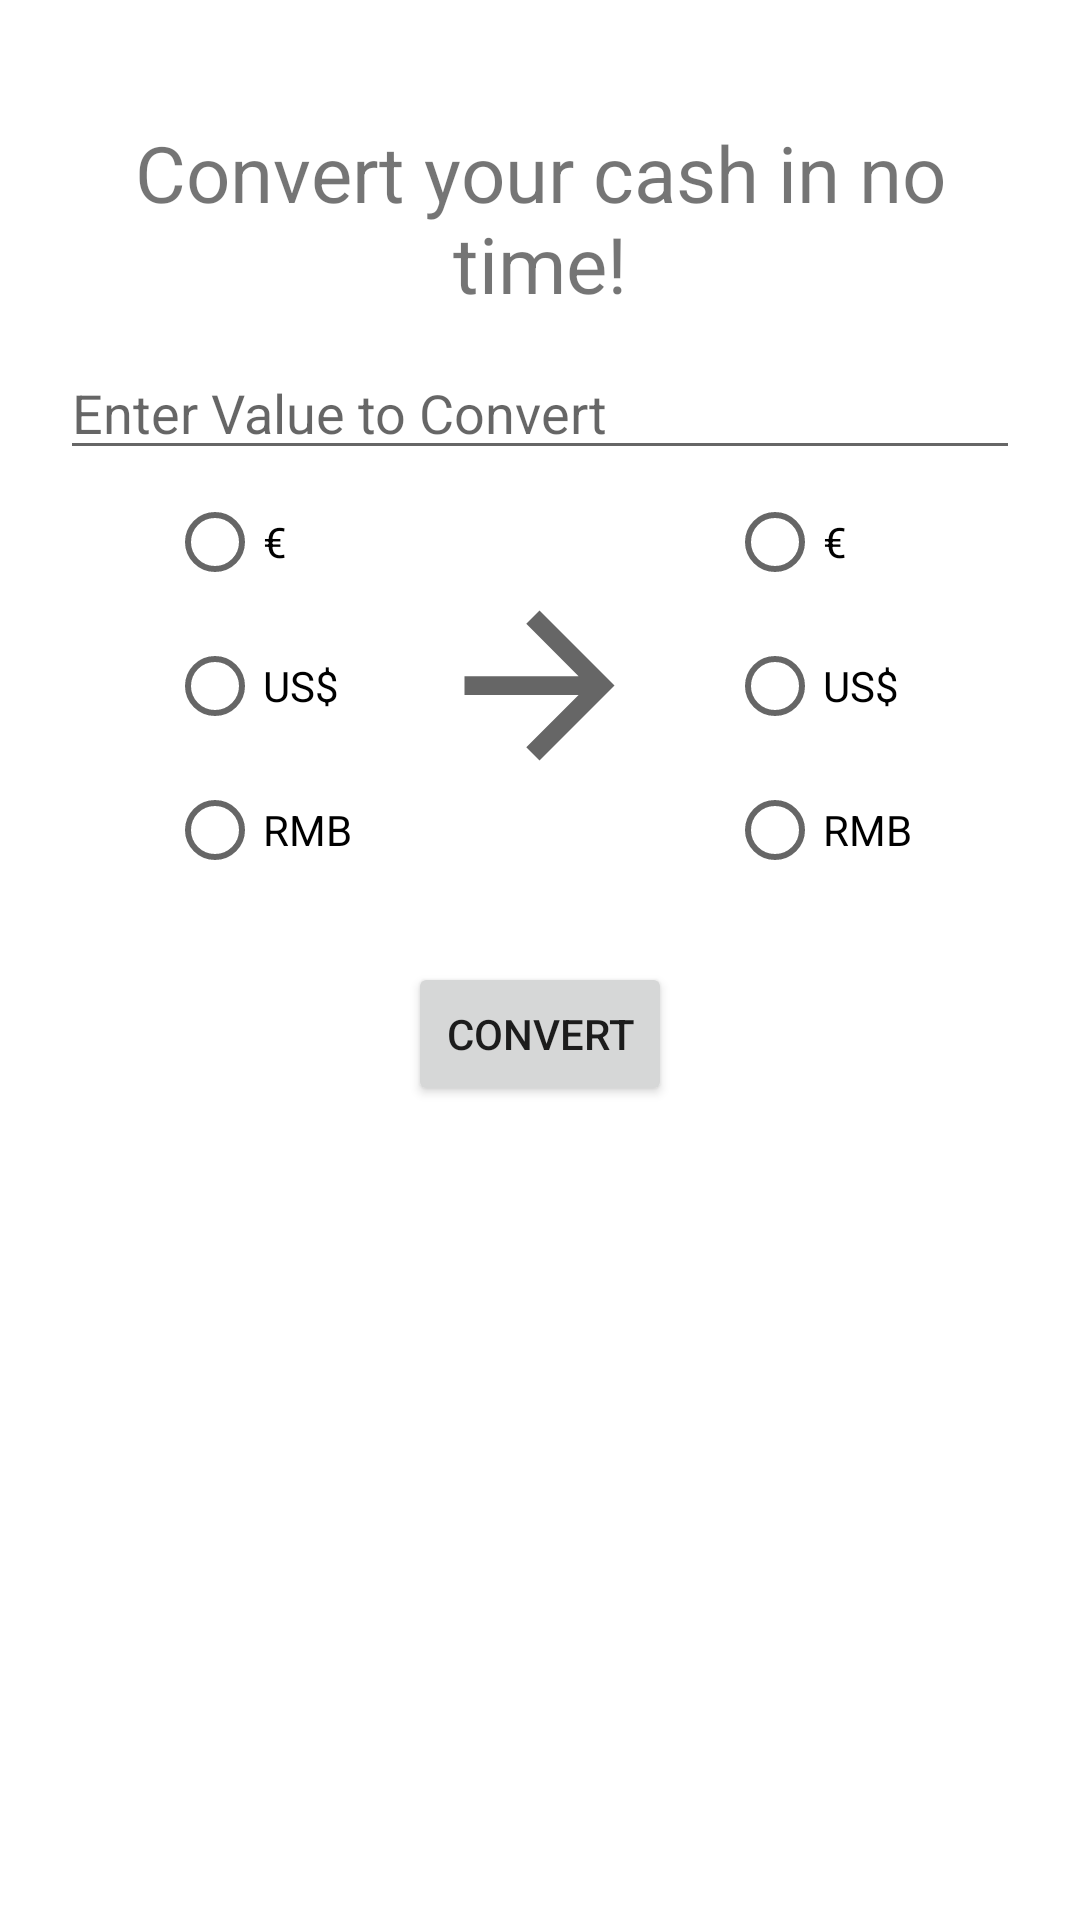

Named icons in this screenshot (1080 × 1920) and their bounding boxes, BBox(x1, y1, x2, y2):
arrow forward: BBox(464, 610, 615, 761)
